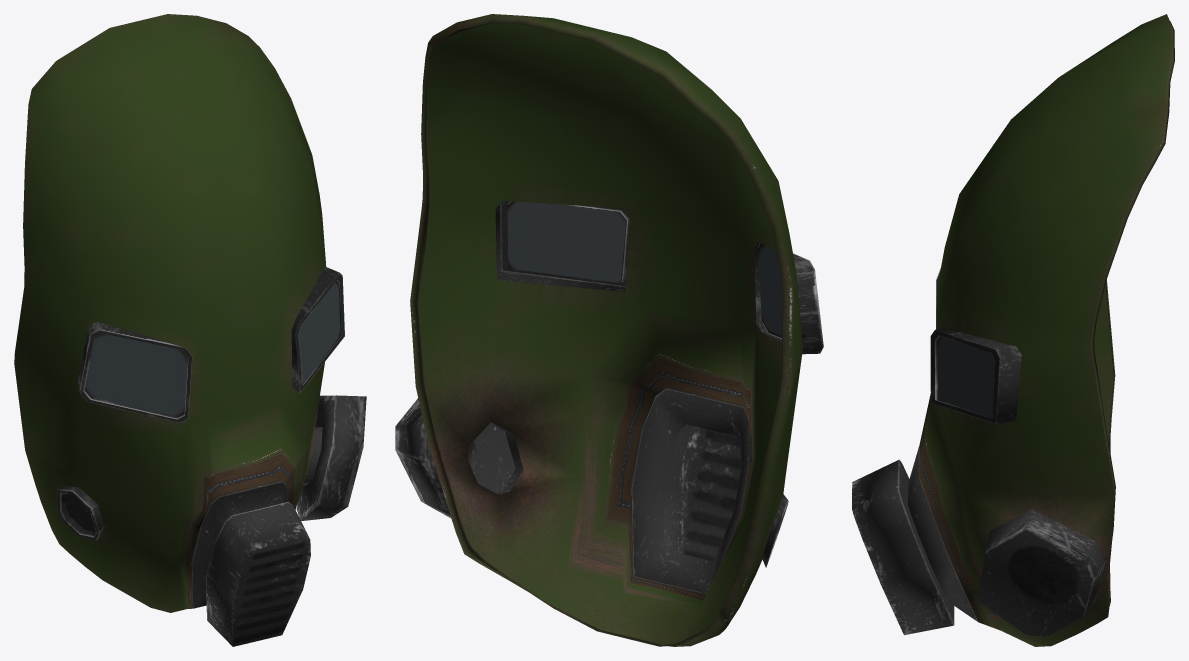
File: Gas mask.fbx
3 renders of one model, left to right at view 1: azimuth 30°, elevation 25°; view 2: azimuth 150°, elevation 25°; view 3: azimuth 270°, elevation 25°, orthographic. The views are drawn at different scales.
Visible parts, largest first — view 1: gass_mask; view 2: gass_mask; view 3: gass_mask.
Boxes of the visible parts, x1,y1,x2,y2 form: gass_mask: [14, 14, 366, 646]; gass_mask: [395, 14, 823, 646]; gass_mask: [852, 14, 1174, 646].
Size of the model in its own units: 51.48 by 81.25 by 40.07.
